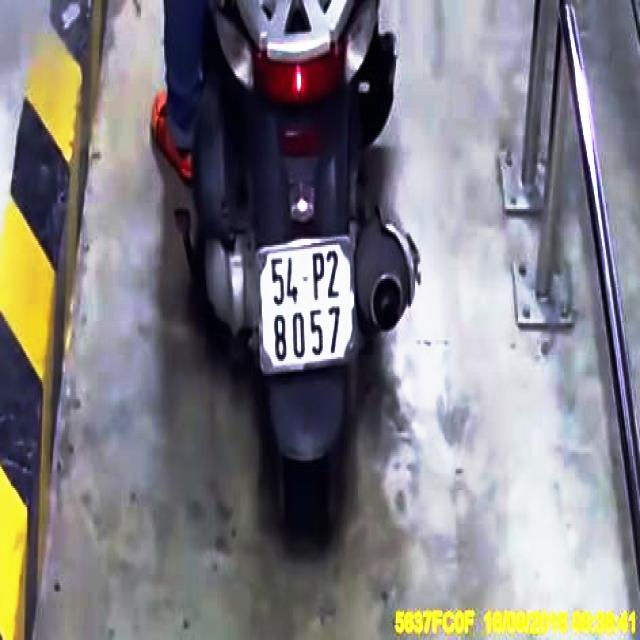license_plate: (254, 236, 362, 376)
